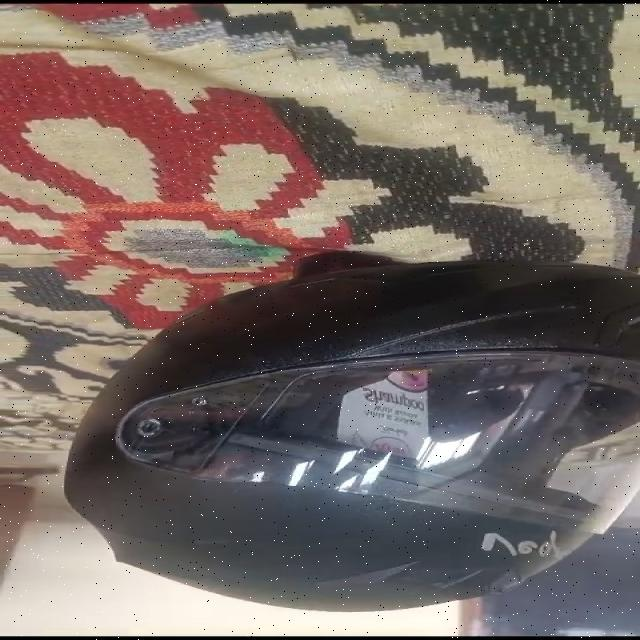Helmet: (65, 254, 639, 611)
